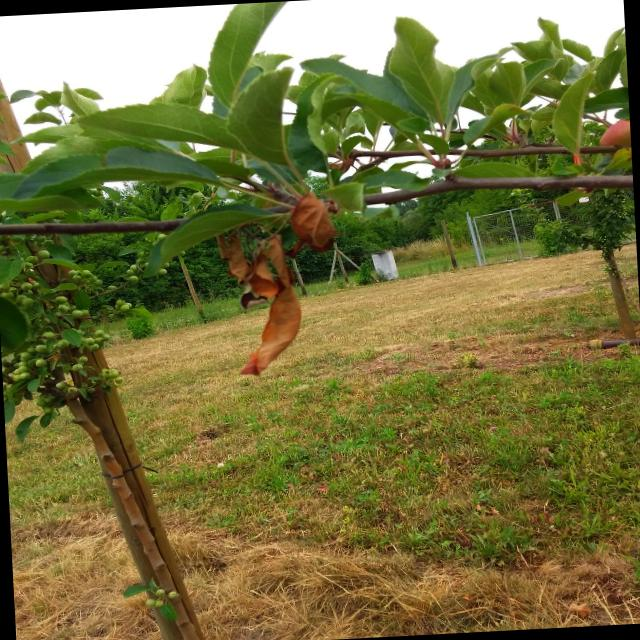-FireBlight-: (207, 186, 337, 374)
